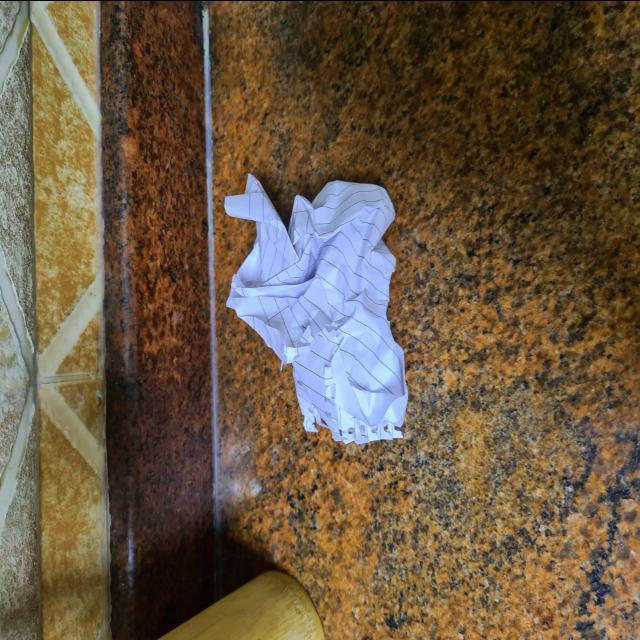Paper: (203, 161, 422, 450)
